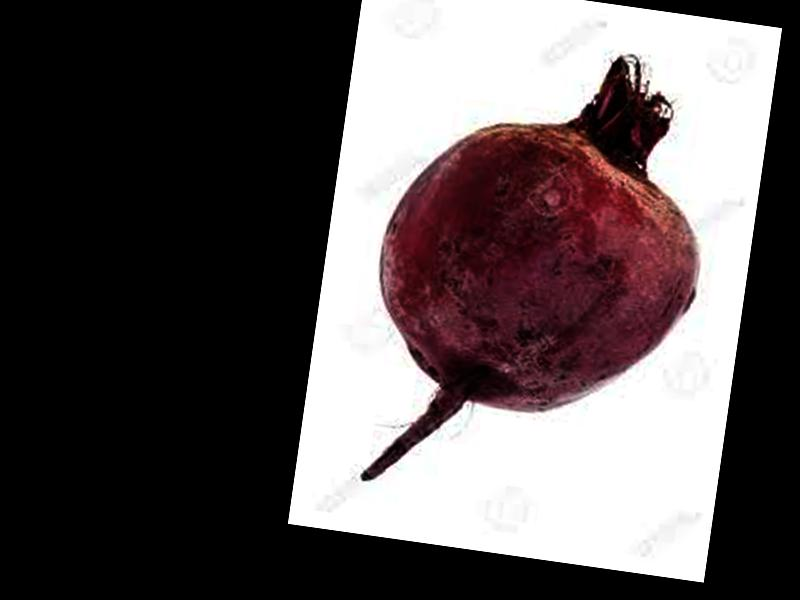Beet: (348, 25, 725, 522)
